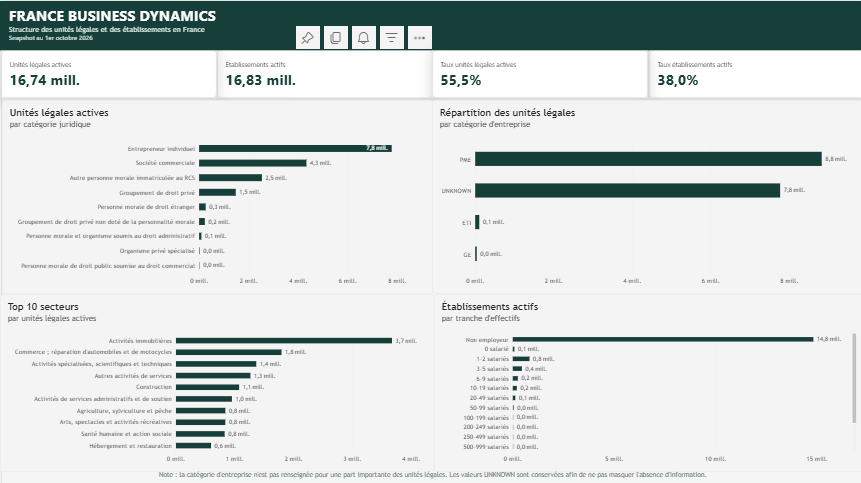

Layout of this report page (visuals, bound fields, positions):
{"tool":"powerbi","page":{"name":"Structure des entreprises","canvas":[1920,1080],"ordinal":3},"visuals":[{"type":"shape","box":[0,0,1920,1080],"z":0},{"type":"shape","box":[0,0,1920,110],"z":1000},{"type":"textbox","box":[0,0,1920,110],"z":2000},{"type":"cardVisual","fields":{"Data":["_Measures.Établissements actifs"]},"box":[481.4,109.3,480,107],"z":3000},{"type":"cardVisual","fields":{"Data":["_Measures.Unités légales actives"]},"box":[2.3,109.3,480,107],"z":4000},{"type":"cardVisual","fields":{"Data":["_Measures.Taux établissements actifs"]},"box":[1441.9,109.3,480,107],"z":5000},{"type":"cardVisual","fields":{"Data":["_Measures.Taux unités légales actives"]},"box":[960.5,109.3,480,107],"z":6000},{"type":"clusteredBarChart","title":"Unités légales actives","fields":{"Category":["DimLegalCategory.Level1Label"],"Y":["_Measures.Unités légales actives"]},"box":[5,220,960,430],"z":7000},{"type":"clusteredBarChart","title":"Répartition des unités légales","fields":{"Category":["FactLegalUnitSnapshot.EnterpriseCategory"],"Y":["_Measures.Unités légales actives"]},"box":[960,220,960,430],"z":8000},{"type":"clusteredBarChart","title":"Top 10 secteurs","fields":{"Category":["DimActivity.NafSectionLabel"],"Y":["_Measures.Unités légales actives"]},"box":[0,650,965,395],"z":9000},{"type":"clusteredBarChart","title":"Établissements actifs","fields":{"Category":["DimWorkforce.WorkforceLabel"],"Y":["_Measures.Établissements actifs"]},"box":[965,650,955,395],"z":10000},{"type":"textbox","box":[5,1045,1915,35],"z":11000}]}

Visuals, with their boxes in screenshot pixels (x1, y1, x2, y2), scaled from the page's 1920x1080 canvas onto the 861x483 screenshot:
shape: rect(0, 0, 860, 482)
shape: rect(0, 0, 860, 49)
textbox: rect(0, 0, 860, 49)
cardVisual - _Measures.Établissements actifs: rect(216, 49, 431, 97)
cardVisual - _Measures.Unités légales actives: rect(1, 49, 216, 97)
cardVisual - _Measures.Taux établissements actifs: rect(647, 49, 860, 97)
cardVisual - _Measures.Taux unités légales actives: rect(431, 49, 646, 97)
"Unités légales actives" clusteredBarChart: rect(2, 98, 433, 291)
"Répartition des unités légales" clusteredBarChart: rect(430, 98, 860, 291)
"Top 10 secteurs" clusteredBarChart: rect(0, 291, 433, 467)
"Établissements actifs" clusteredBarChart: rect(433, 291, 860, 467)
textbox: rect(2, 467, 860, 482)
